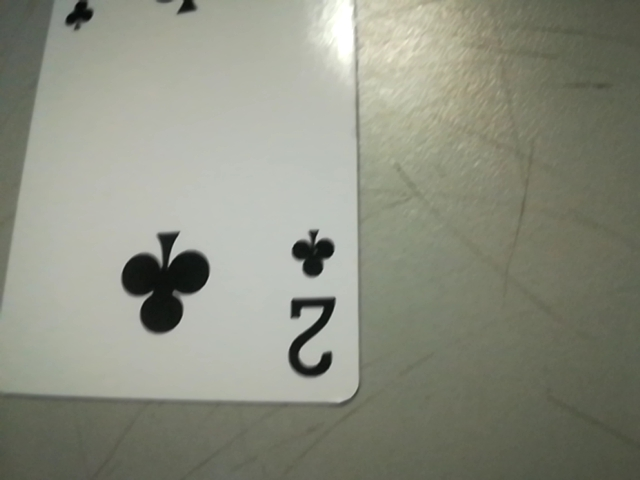mh 2: (275, 213, 355, 392)
